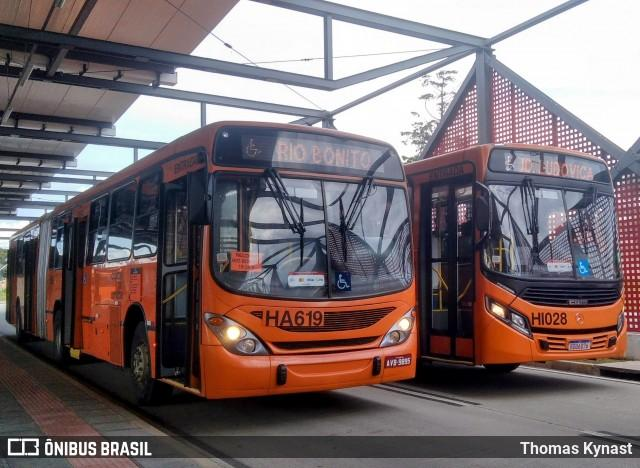JD LUDOVICA: (512, 151, 598, 186)
RIO BONITO: (272, 137, 378, 172)
